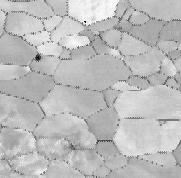good_void: (62, 136, 80, 156), (33, 52, 44, 68), (158, 121, 167, 128), (118, 35, 124, 41), (82, 20, 89, 24)
